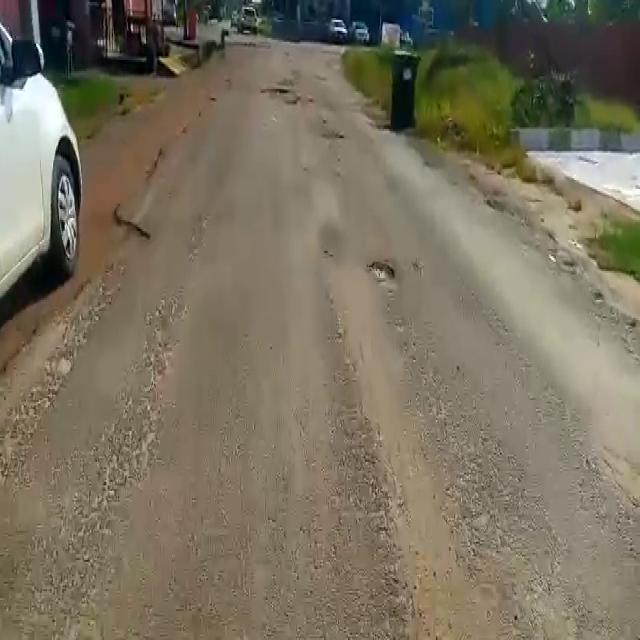Pothole: (366, 257, 398, 287)
